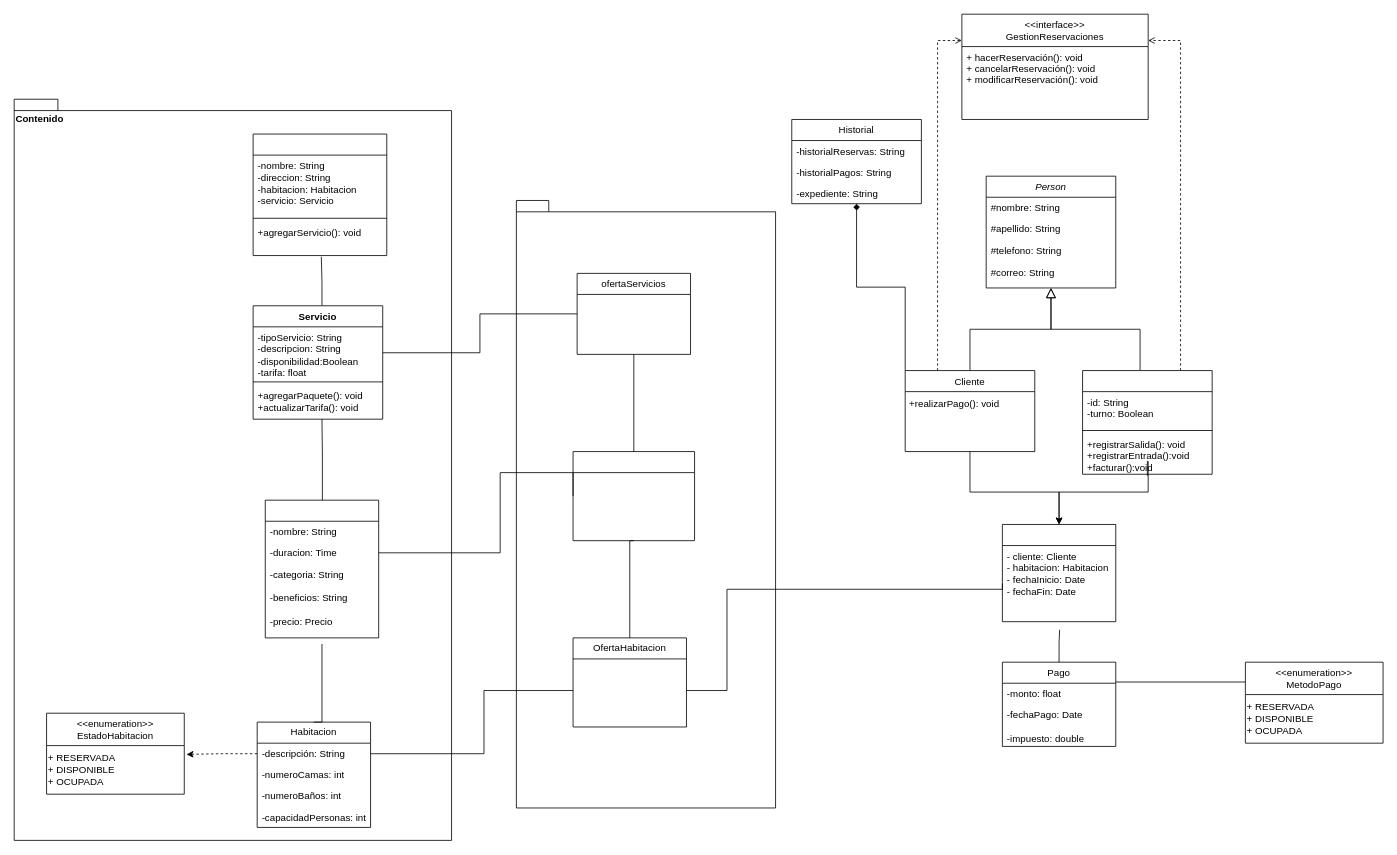
This 1397x855 diagram has some shape labels left out. Each missing label, with the box of its shape:
Classname: (252, 133, 387, 256)
ofertaHotel: (516, 200, 776, 808)
OfertaPaquete: (572, 451, 695, 541)
Paquete: (264, 499, 379, 638)
Recepcionista: (1082, 370, 1212, 474)
ReservaHabitacion: (1002, 524, 1116, 622)
